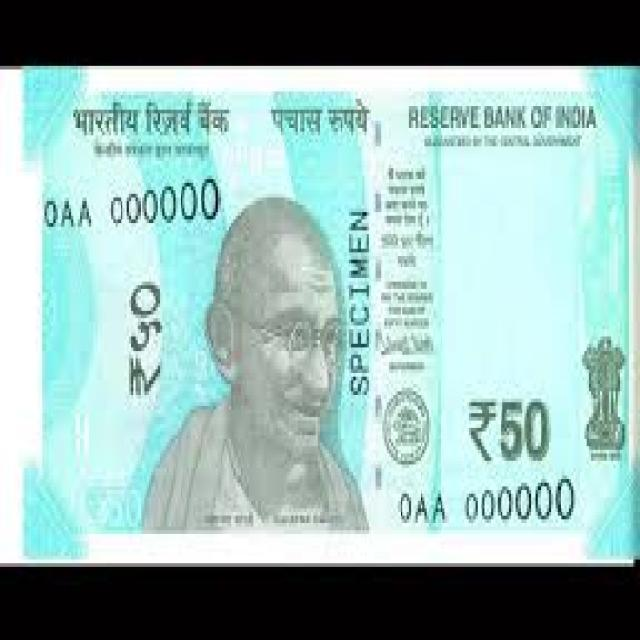50rs: (20, 62, 640, 552)
